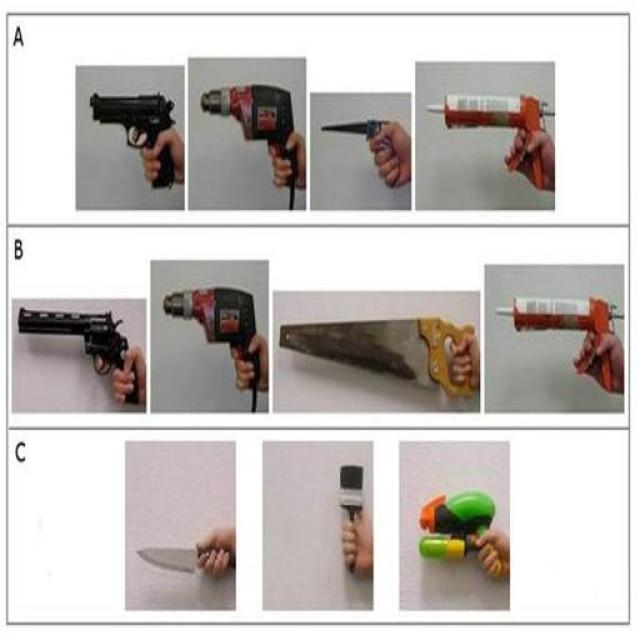pistol: (16, 303, 140, 404), (91, 82, 175, 201)
